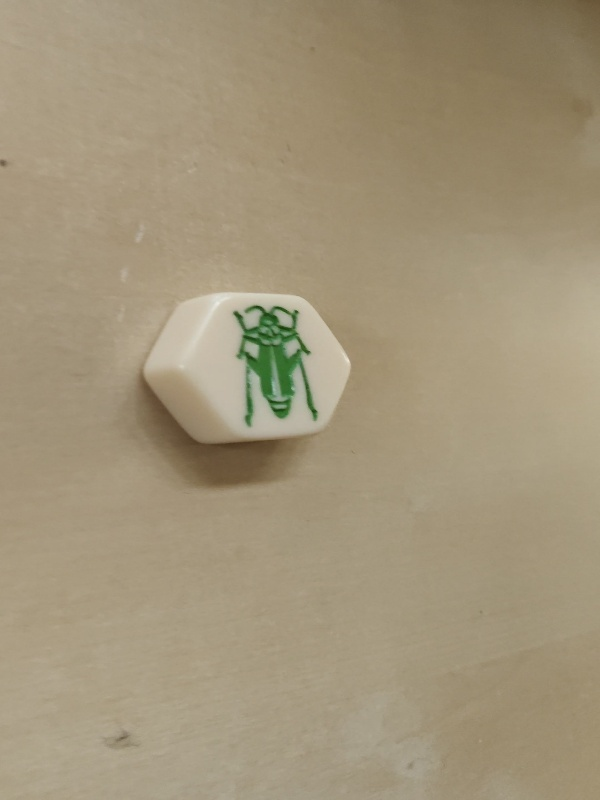white_grasshopper: (138, 293, 345, 442)
